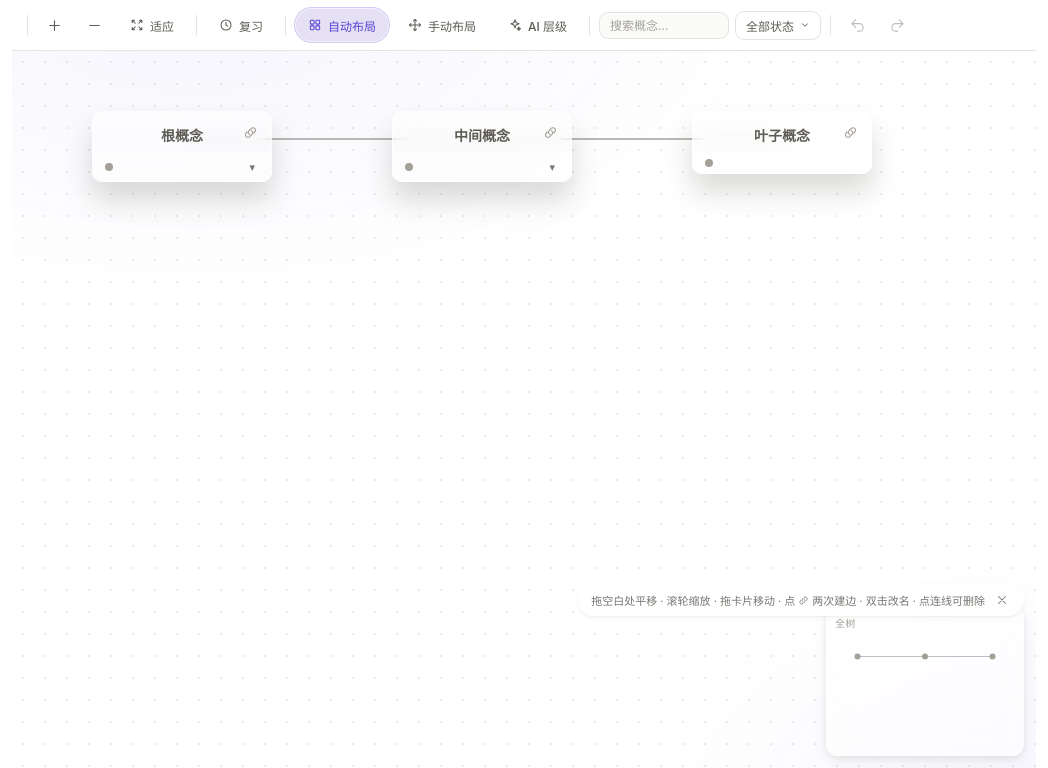
Test: 画布子树折叠（第五轮 A） › 点折叠钮：后代隐藏 + 显示 +N 角标；再点展开恢复
Click the button titled "收起子树" below "中间概念".
click(552, 167)  # box [546,159,559,175]
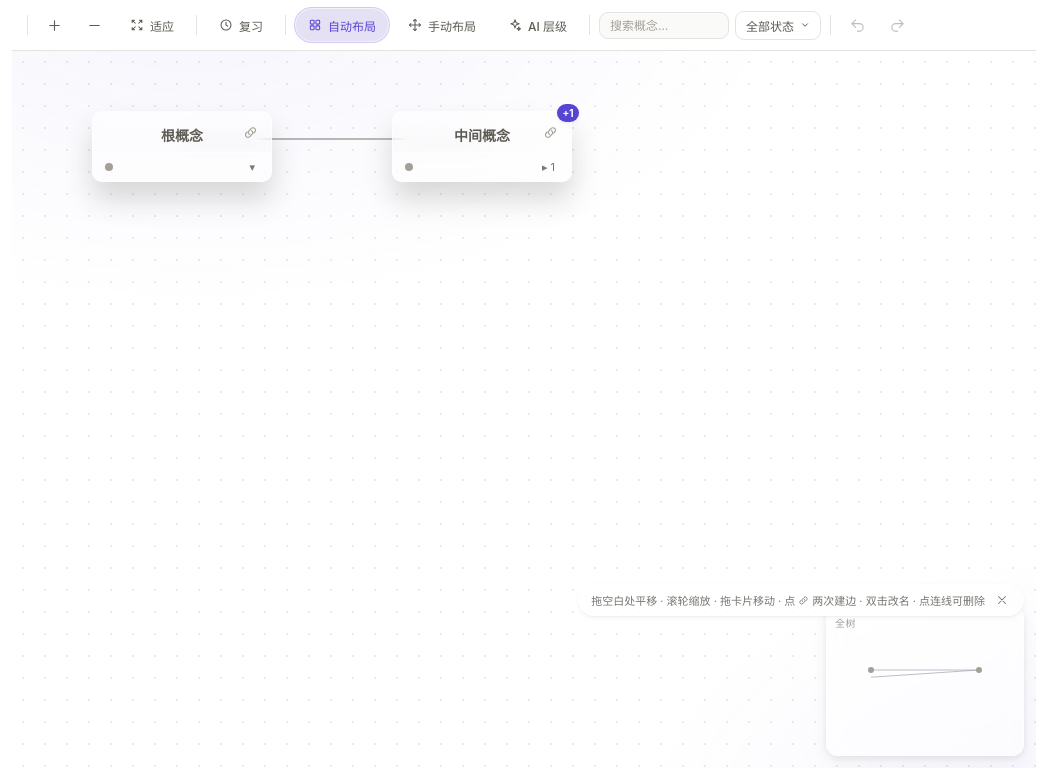
Check: the text "叶子概念" is gone
Check: the button "▸ 1" is shown
Check: the text "+1" is shown, box [557,104,579,122]
展开恢复（第八轮：翻起面板复制名字，用 getAllByText）
Click the button titled "展开子树".
click(548, 167)  # box [538,159,559,175]
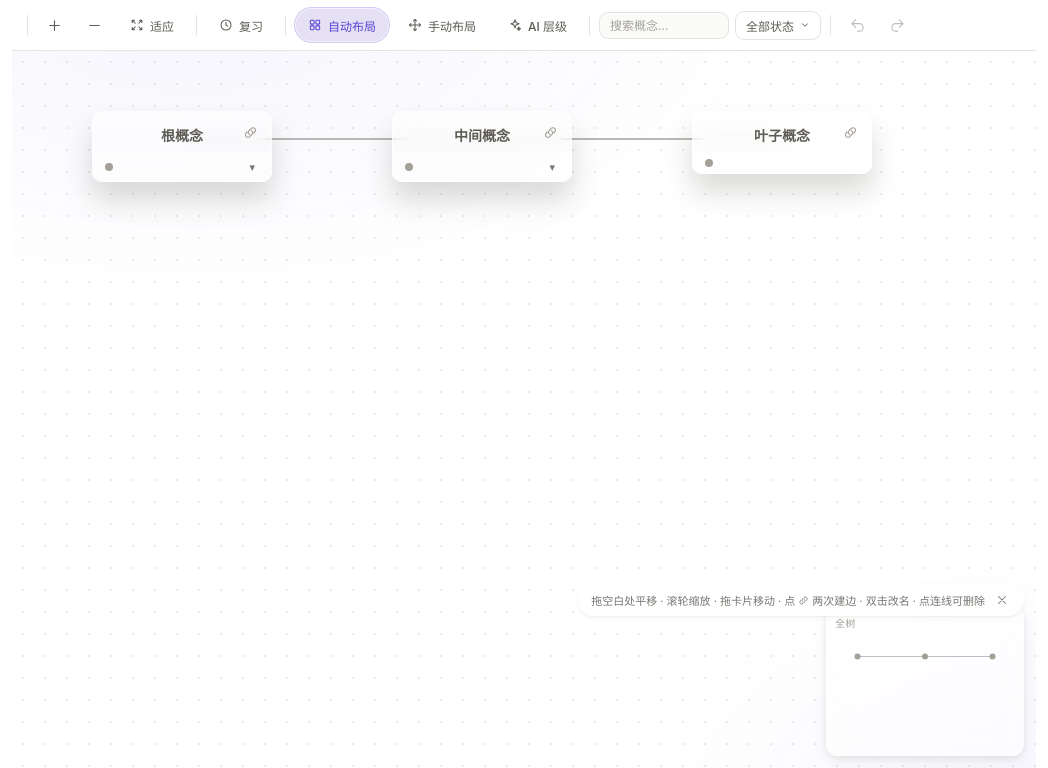
Check: the text "+1" is gone
